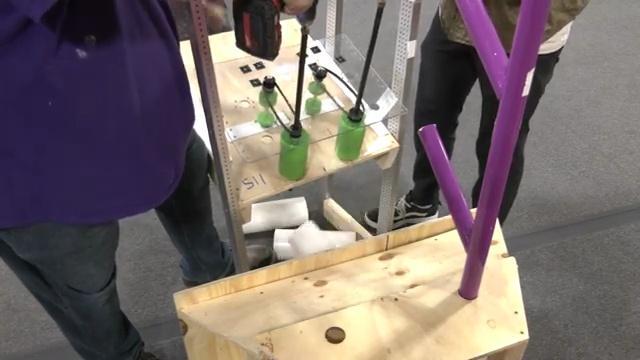CORAL: (242, 198, 309, 234), (273, 228, 356, 256)
